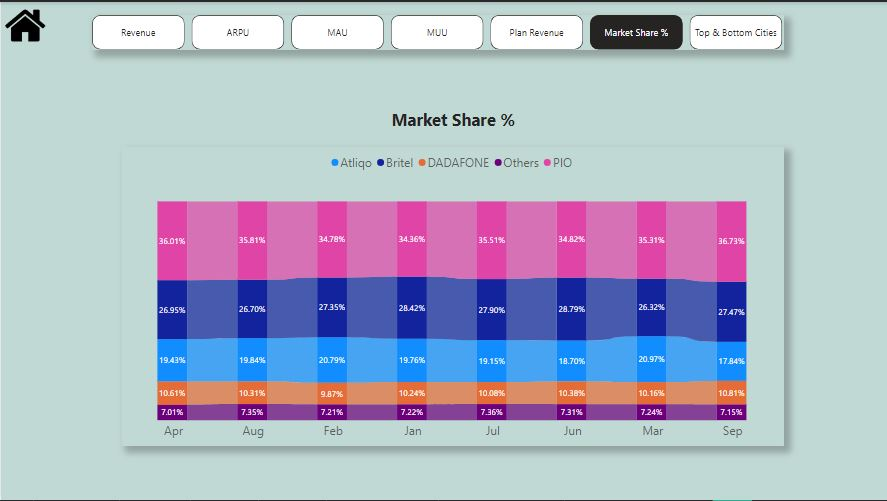

Layout of this report page (visuals, bound fields, positions):
{"tool":"powerbi","page":{"name":"Market Share  %","canvas":[1280,720],"ordinal":6},"visuals":[{"type":"ribbonChart","fields":{"Category":["dim_date.month_name"],"Y":["Key Measures.Market Share %"],"Series":["fact_market_share.company"]},"box":[174.9,209.6,957.1,432.3],"z":0},{"type":"pageNavigator","title":"Revenue","box":[131.6,18.8,1000.5,50.6],"z":1},{"type":"textbox","box":[174.9,148.9,957.1,43.4],"z":2},{"type":"image","box":[0,0,69.4,68],"z":3}]}

Visuals, with their boxes on the page's 1280x720 design canvas (x1, y1, x2, y2). These are canvas units, not pixel positions in the 887x501 screenshot, which may show the page scaled, cropped or inside an application window:
ribbonChart - dim_date.month_name x Key Measures.Market Share %: bbox(175, 210, 1132, 642)
"Revenue" pageNavigator: bbox(132, 19, 1132, 69)
textbox: bbox(175, 149, 1132, 192)
image: bbox(0, 0, 69, 68)
